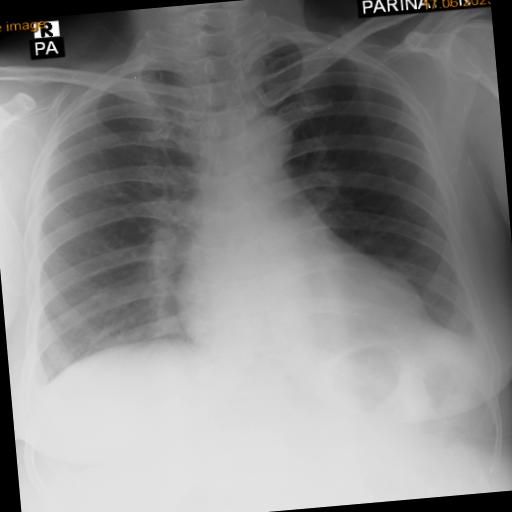kardiomegali: (0, 3, 502, 426)
